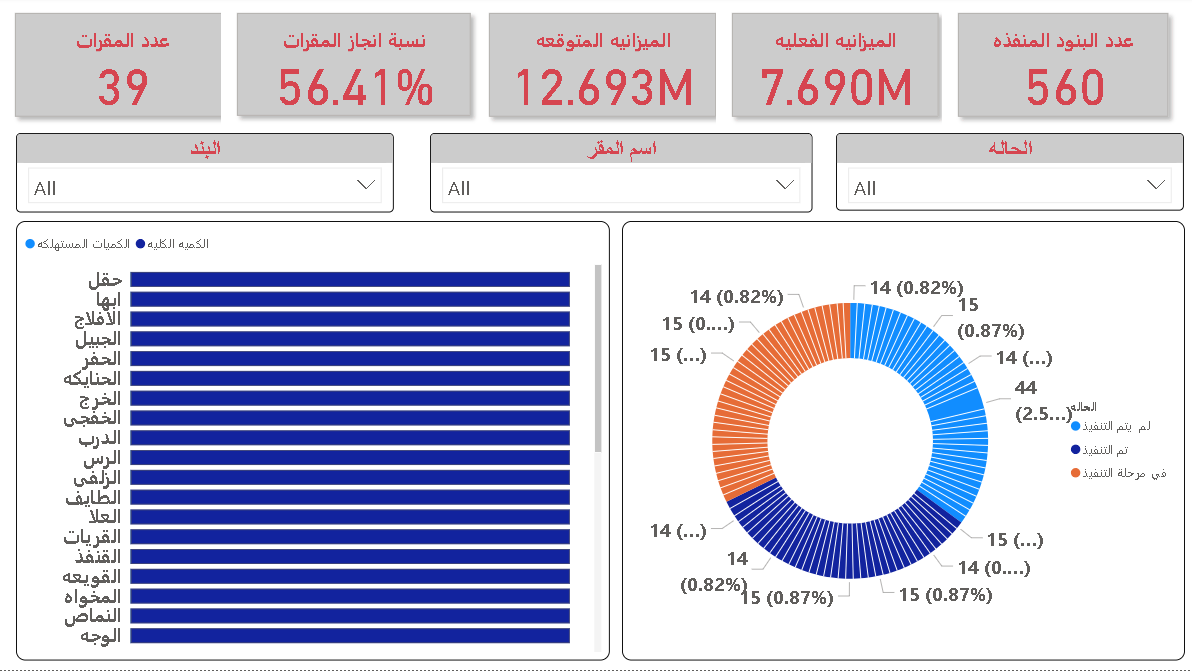

The page's visual inventory and layout, read from the dashboard file:
{"tool":"powerbi","page":{"name":"Dahboard","canvas":[1280,720],"ordinal":0},"visuals":[{"type":"cardVisual","title":"عدد ","fields":{"Data":["Measures (2).عدد المقرات"]},"box":[0,0,264.7,145.2],"z":0},{"type":"cardVisual","fields":{"Data":["Measures (2).الميزانيه المتوقعه"]},"box":[506.3,0,277.6,145.2],"z":2000},{"type":"cardVisual","fields":{"Data":["Measures (2).الميزانيه الفعليه"]},"box":[767.2,0,255.7,145.2],"z":3000},{"type":"cardVisual","fields":{"Data":["Measures (2).عدد البنود التي تم انجازها"]},"box":[1008.8,0,259.6,145.2],"z":4000},{"type":"slicer","title":"البند","fields":{"Values":["Project Data.البند"]},"box":[18,145.2,403.5,84.8],"z":5000},{"type":"slicer","title":"الحاله","fields":{"Values":["LOOKUP Table.الحاله"]},"box":[895.1,145.2,371.6,82.6],"z":6000},{"type":"donutChart","fields":{"Series":["Stores Codes.اسم المقر"],"Y":["CountNonNull(LOOKUP Table.الحاله)"],"Category":["LOOKUP Table.الحاله"]},"box":[666,239.8,602,470.2],"z":7000},{"type":"barChart","fields":{"Category":["Stores Codes.اسم المقر"],"Y":["Measures (2).الكميات المستهلكه","Measures (2).الكميه الكليه"]},"box":[18.6,239.8,635.3,470.2],"z":8000},{"type":"slicer","title":"اسم المقر","fields":{"Values":["Stores Codes.اسم المقر"]},"box":[461.4,145.2,408.7,84.8],"z":9000},{"type":"cardVisual","title":"عدد ","fields":{"Data":["Measures (2).نسبة انجاز المقرات"]},"box":[237,0,284.8,144.7],"z":10001}]}

Visuals, with their boxes in screenshot pixels (x1, y1, x2, y2), scaled from the page's 1280x720 canvas onto the 1192x671 screenshot:
"عدد " cardVisual: {"left": 0, "top": 0, "right": 247, "bottom": 135}
cardVisual - Measures (2).الميزانيه المتوقعه: {"left": 471, "top": 0, "right": 730, "bottom": 135}
cardVisual - Measures (2).الميزانيه الفعليه: {"left": 714, "top": 0, "right": 953, "bottom": 135}
cardVisual - Measures (2).عدد البنود التي تم انجازها: {"left": 939, "top": 0, "right": 1181, "bottom": 135}
"البند" slicer: {"left": 17, "top": 135, "right": 393, "bottom": 214}
"الحاله" slicer: {"left": 834, "top": 135, "right": 1180, "bottom": 212}
donutChart - Stores Codes.اسم المقر x CountNonNull(LOOKUP Table.الحاله): {"left": 620, "top": 223, "right": 1181, "bottom": 662}
barChart - Stores Codes.اسم المقر x Measures (2).الكميات المستهلكه: {"left": 17, "top": 223, "right": 609, "bottom": 662}
"اسم المقر" slicer: {"left": 430, "top": 135, "right": 810, "bottom": 214}
"عدد " cardVisual: {"left": 221, "top": 0, "right": 486, "bottom": 135}
